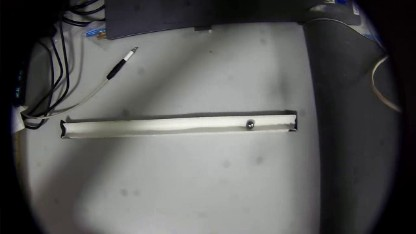gangzhu: (245, 118, 256, 130)
